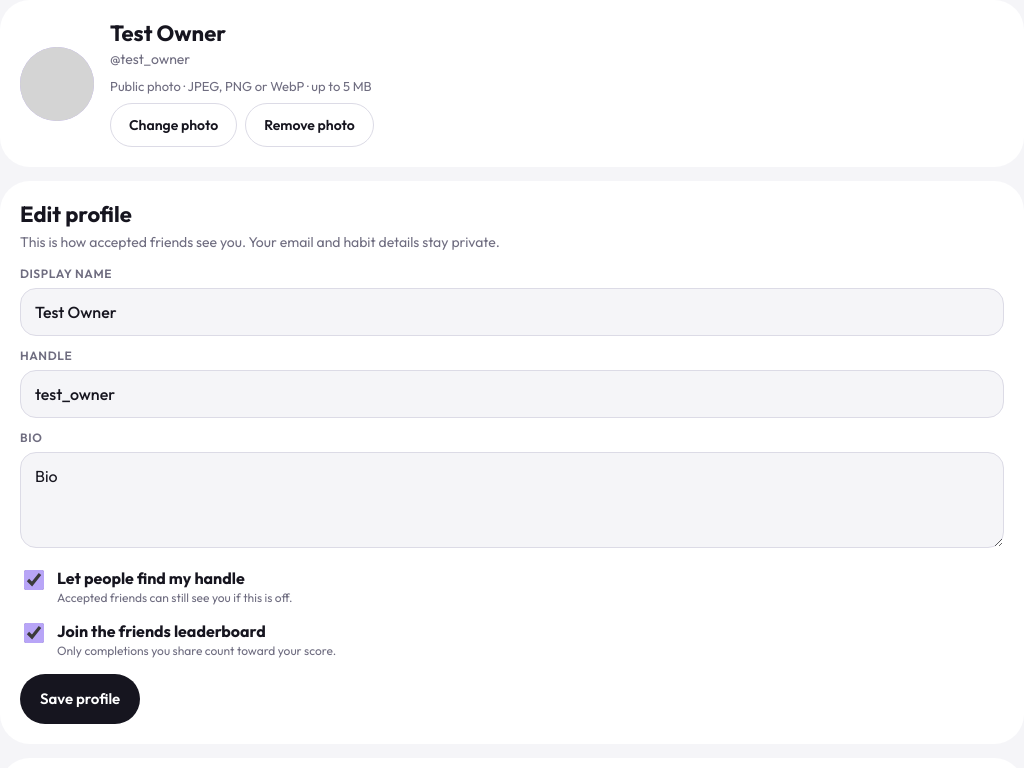
it: profile avatar controls › shows and retries failed old-file cleanup after removal
This screenshot has width=1024, height=768.
Expected: the element named "Profile photo" is shown, [110,77,374,147]
Click the button "Remove photo" at (309, 125), box [245,103,374,147]
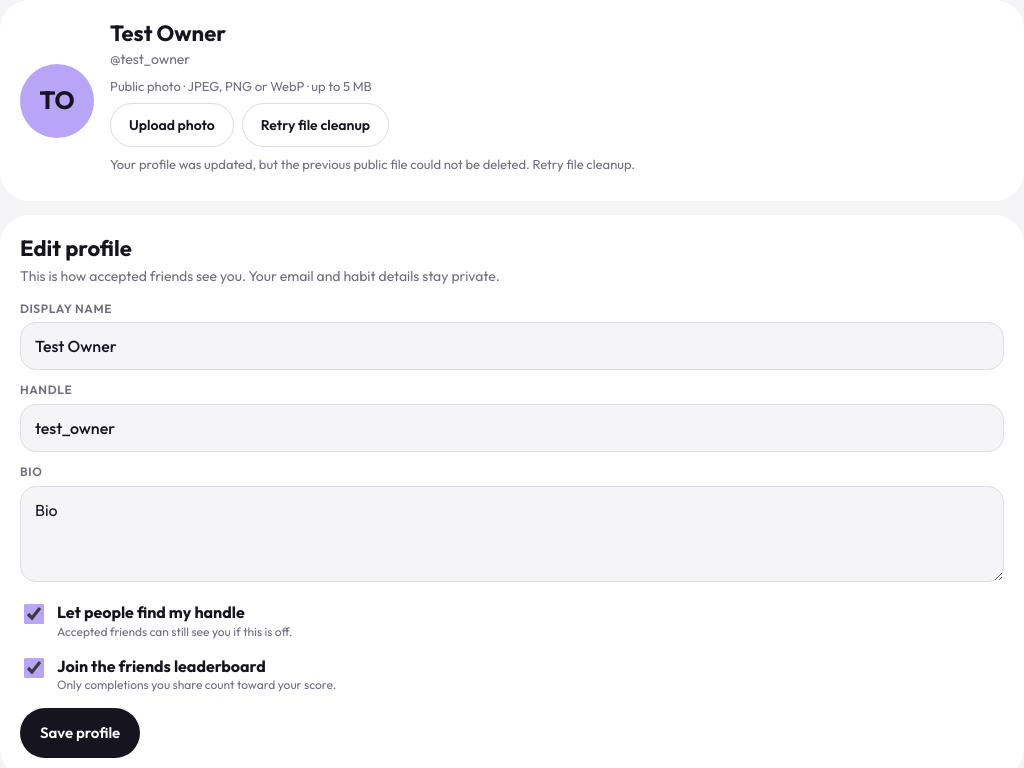
Expected: the picture named "Test Owner's avatar" reads "TO", [39,84,75,116]
Now the text "previous public file could not be deleted" is shown, box [110,156,635,172]
Click the button "Retry file cleanup" at (315, 125), box [242,103,389,147]
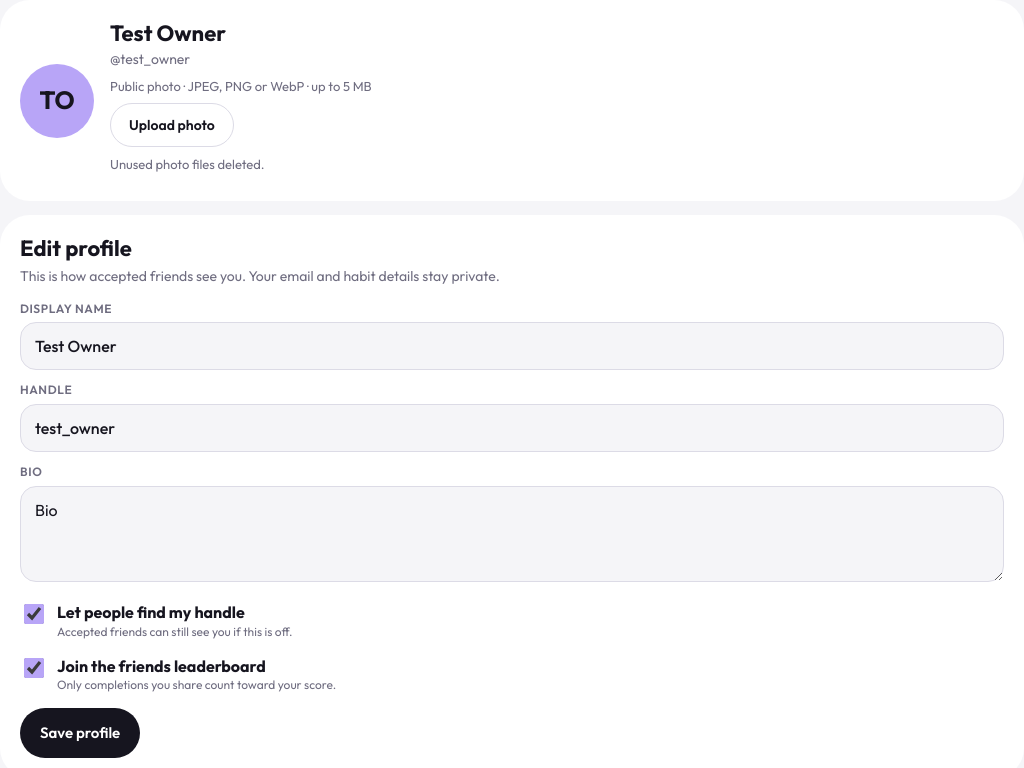
Now the text "Unused photo files deleted." is shown, box [110,156,265,172]
Now the button "Retry file cleanup" is gone
